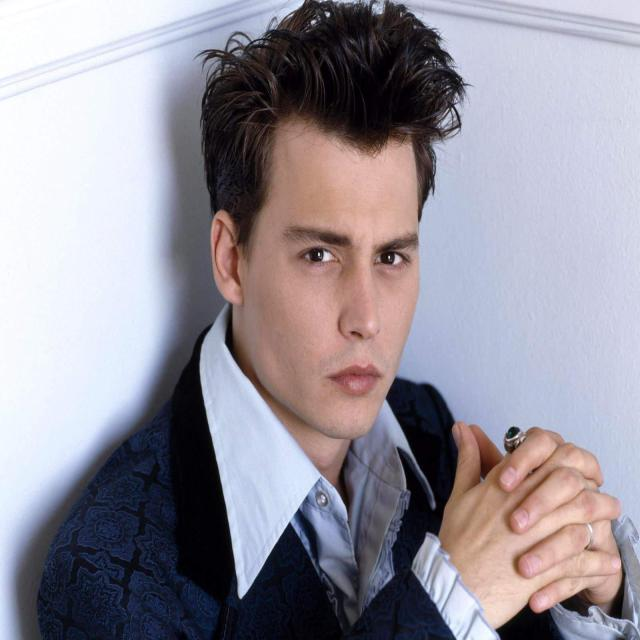no-earmuff: (203, 202, 257, 322)
